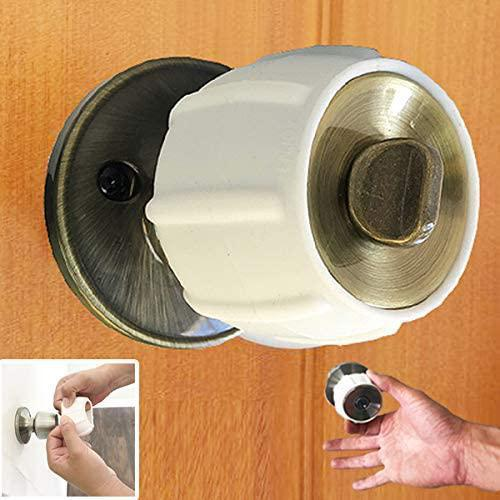doorhandle: (52, 22, 484, 361)
